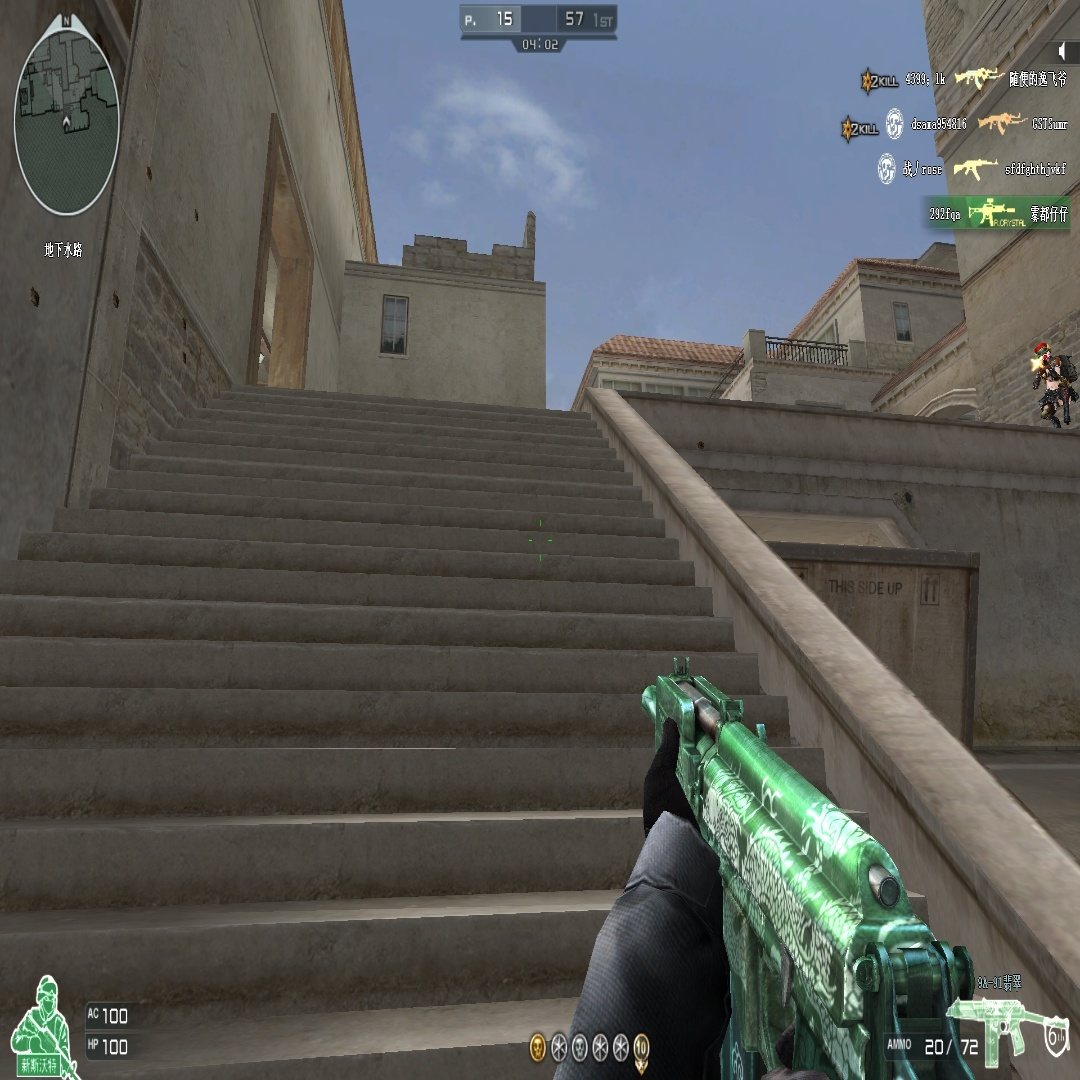head: (1034, 341, 1052, 365)
p: (1031, 340, 1072, 429)
